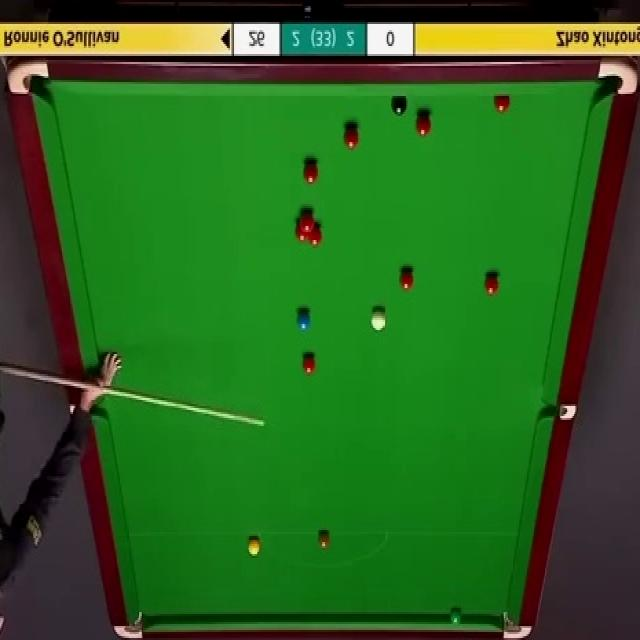black-ball: (391, 96, 408, 116)
blue-ball: (297, 307, 311, 333)
brown-ball: (317, 528, 331, 552)
green-ball: (450, 608, 463, 626)
red-ball: (302, 158, 319, 186), (414, 112, 432, 137), (342, 125, 360, 149), (399, 267, 414, 293), (485, 272, 499, 296), (493, 96, 511, 114), (300, 212, 314, 234), (302, 355, 316, 376), (308, 227, 322, 246), (296, 226, 308, 242)
white-ball: (371, 308, 386, 332)
yellow-ball: (247, 535, 260, 559)
